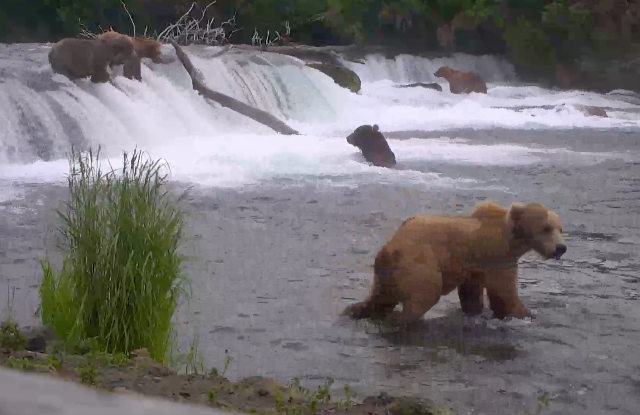bear: (504, 199, 572, 263)
